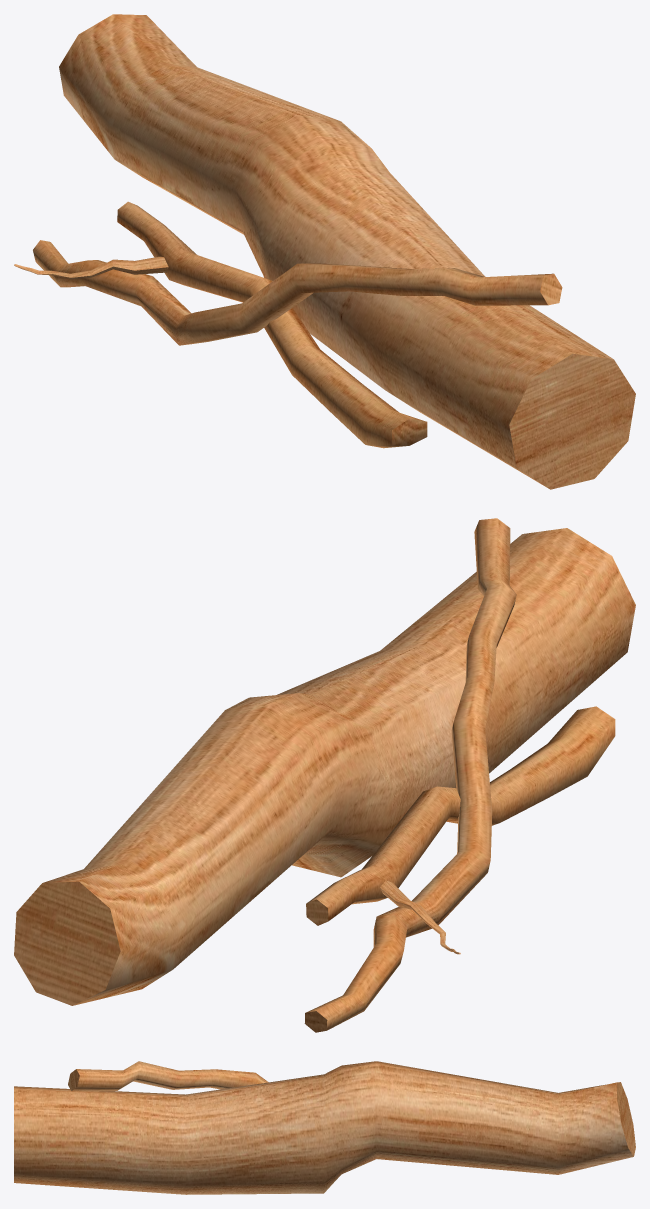
File: madera 1.fbx
3 views of the same model, one above another, from view 1: azimuth 30°, elevation 25°; view 2: azimuth 150°, elevation 25°; view 3: azimuth 270°, elevation 25° (orthographic). The views are drawn at different scales.
Visible parts, largest first — view 1: Snag2_Cylinder.002; view 2: Snag2_Cylinder.002; view 3: Snag2_Cylinder.002.
Boxes of the visible parts, x1,y1,x2,y2 form: Snag2_Cylinder.002: (14, 14, 635, 489); Snag2_Cylinder.002: (14, 518, 635, 1032); Snag2_Cylinder.002: (14, 1061, 635, 1194).
Bounding box in the file's own units: 335 × 202 × 894.
1 material, 1 textured.
